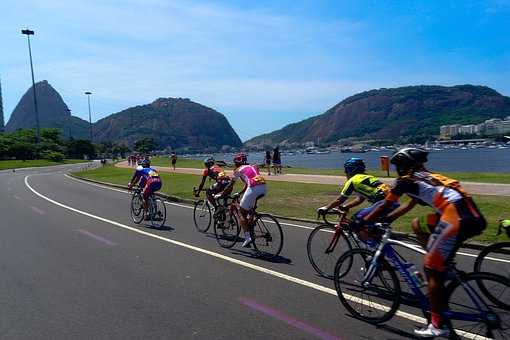bikerider: (340, 143, 504, 339), (309, 153, 396, 286), (213, 156, 283, 256), (123, 155, 179, 234), (194, 156, 240, 237)
